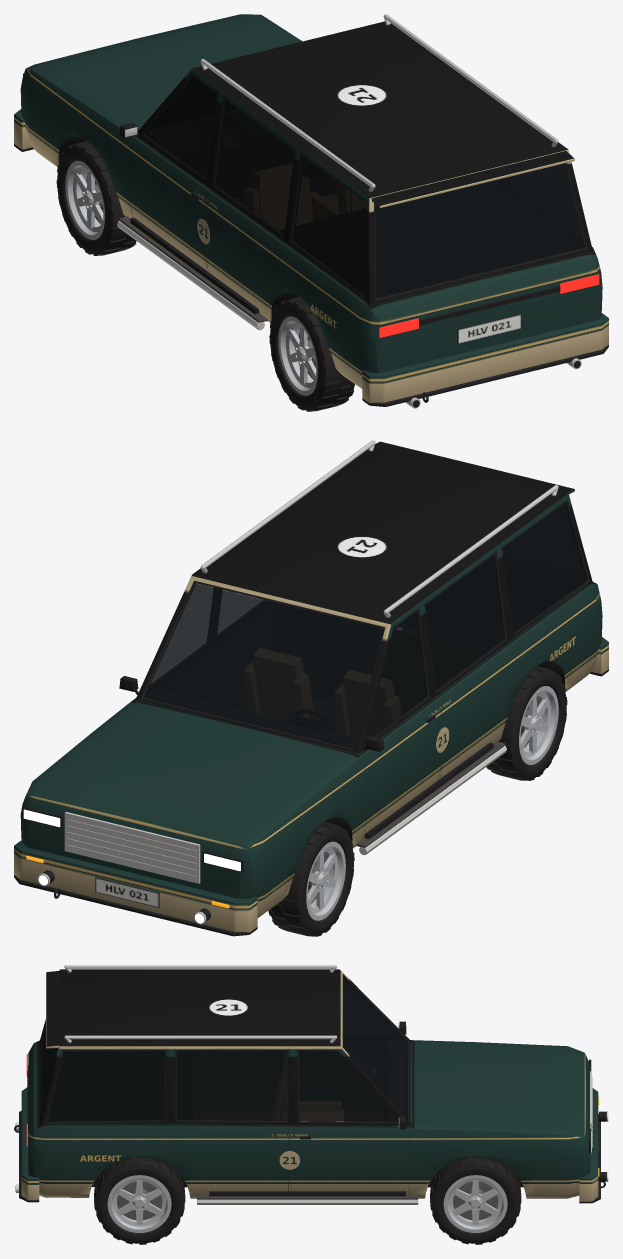
File: CAR-021_Export.fbx
The picture shows the model from 3 angles, top to bottom: view 1: azimuth 30°, elevation 25°; view 2: azimuth 150°, elevation 25°; view 3: azimuth 270°, elevation 25°; orthographic projection. The views are drawn at different scales.
Parts seen in each view (by area): view 1: CAR-021_Body, CAR-021_Glass, CAR-021_Bumper_Rear, CAR-021_Accessories, CAR-021_Wheel_RL_Tire, CAR-021_Wheel_FL_Tire, CAR-021_Spoiler, CAR-021_Trim, CAR-021_Wheel_RL_Rim, CAR-021_Wheel_FL_Rim, CAR-021_Lights; view 2: CAR-021_Body, CAR-021_Glass, CAR-021_Bumper_Front, CAR-021_Trim, CAR-021_Accessories, CAR-021_Wheel_FL_Tire, CAR-021_Wheel_RL_Tire, CAR-021_Wheel_FL_Rim, CAR-021_Wheel_RL_Rim, CAR-021_Lights, CAR-021_Spoiler; view 3: CAR-021_Body, CAR-021_Glass, CAR-021_Accessories, CAR-021_Wheel_RR_Tire, CAR-021_Wheel_FR_Tire, CAR-021_Wheel_RR_Rim, CAR-021_Wheel_FR_Rim, CAR-021_Trim, CAR-021_Bumper_Front, CAR-021_Bumper_Rear, CAR-021_Spoiler, CAR-021_Lights.
Boxes of the visible parts, left/top/right/bottom form: CAR-021_Body: left=20, top=14, right=602, bottom=388; CAR-021_Glass: left=145, top=77, right=584, bottom=297; CAR-021_Bumper_Rear: left=362, top=313, right=608, bottom=406; CAR-021_Accessories: left=117, top=14, right=558, bottom=330; CAR-021_Wheel_RL_Tire: left=269, top=296, right=354, bottom=411; CAR-021_Wheel_FL_Tire: left=56, top=141, right=136, bottom=255; CAR-021_Spoiler: left=371, top=151, right=574, bottom=208; CAR-021_Trim: left=130, top=192, right=581, bottom=408; CAR-021_Wheel_RL_Rim: left=278, top=316, right=317, bottom=395; CAR-021_Wheel_FL_Rim: left=65, top=161, right=104, bottom=239; CAR-021_Lights: left=23, top=73, right=599, bottom=337; CAR-021_Body: left=20, top=446, right=602, bottom=917; CAR-021_Glass: left=144, top=503, right=586, bottom=748; CAR-021_Bumper_Front: left=14, top=840, right=257, bottom=936; CAR-021_Trim: left=54, top=715, right=493, bottom=907; CAR-021_Accessories: left=200, top=440, right=558, bottom=855; CAR-021_Wheel_FL_Tire: left=268, top=821, right=354, bottom=936; CAR-021_Wheel_RL_Tire: left=486, top=666, right=567, bottom=780; CAR-021_Wheel_FL_Rim: left=306, top=841, right=345, bottom=920; CAR-021_Wheel_RL_Rim: left=519, top=686, right=558, bottom=764; CAR-021_Lights: left=23, top=807, right=243, bottom=924; CAR-021_Spoiler: left=374, top=441, right=574, bottom=494; CAR-021_Body: left=28, top=969, right=590, bottom=1198; CAR-021_Glass: left=42, top=977, right=407, bottom=1121; CAR-021_Accessories: left=64, top=965, right=418, bottom=1204; CAR-021_Wheel_RR_Tire: left=94, top=1157, right=185, bottom=1244; CAR-021_Wheel_FR_Tire: left=430, top=1157, right=521, bottom=1244; CAR-021_Wheel_RR_Rim: left=107, top=1175, right=171, bottom=1232; CAR-021_Wheel_FR_Rim: left=443, top=1175, right=507, bottom=1232; CAR-021_Trim: left=14, top=1071, right=605, bottom=1196; CAR-021_Bumper_Front: left=579, top=1088, right=600, bottom=1203; CAR-021_Bumper_Rear: left=19, top=1087, right=39, bottom=1202; CAR-021_Spoiler: left=46, top=970, right=59, bottom=1048; CAR-021_Lights: left=26, top=1054, right=608, bottom=1181.
Bounding box in the file's own units: 2.13 × 1.97 × 5.35.
Materials: 16 (2 with a texture image).
